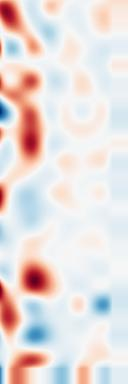filament: (12, 98, 48, 171), (14, 255, 61, 301)
